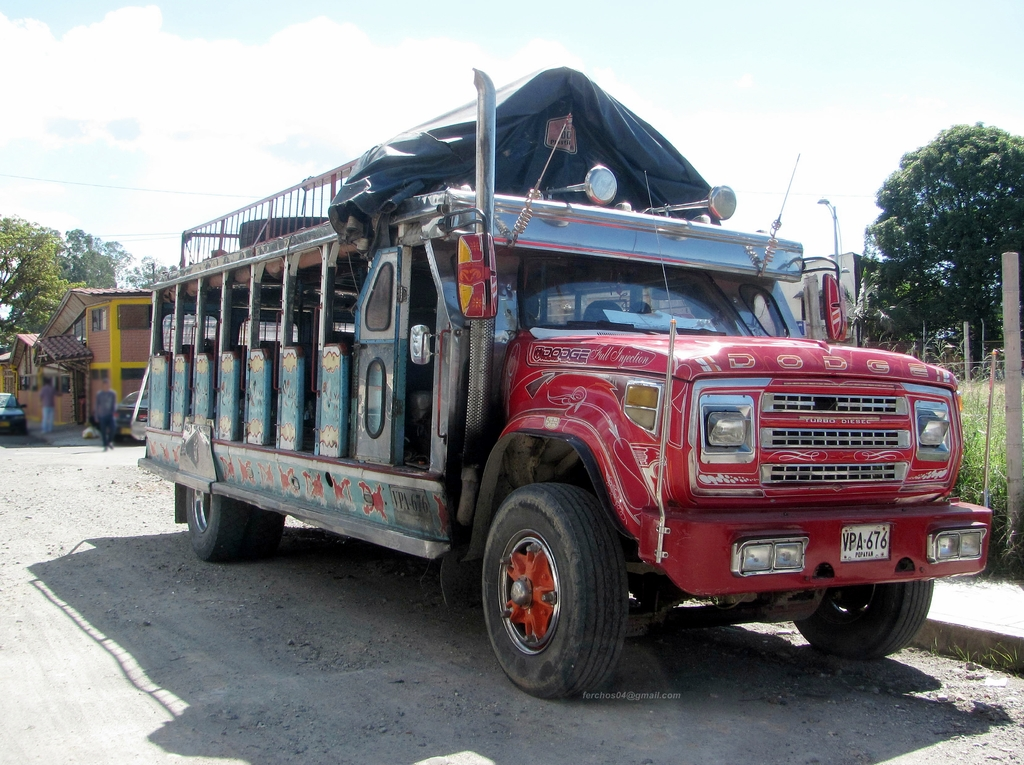truck: (127, 49, 1001, 723)
